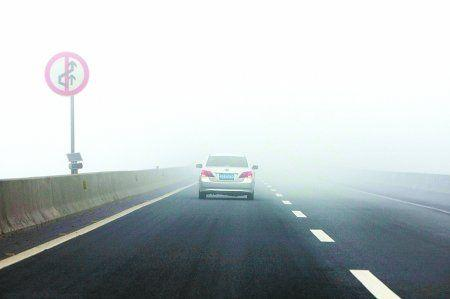car: (195, 153, 259, 201)
